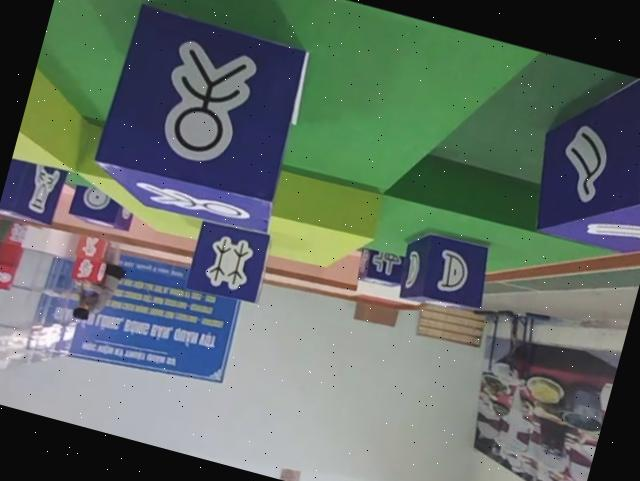R2 Real Blue: (89, 1, 320, 246), (519, 57, 640, 263), (520, 58, 640, 263), (393, 222, 498, 317), (184, 212, 276, 305), (0, 154, 64, 227), (64, 181, 135, 232), (351, 245, 407, 291)
